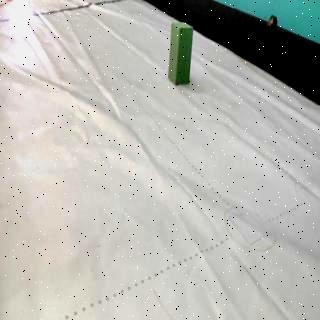greenbox: (168, 22, 194, 86)
